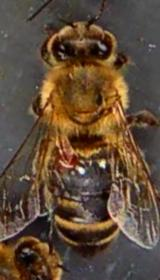varroa_mite: (46, 140, 78, 168)
